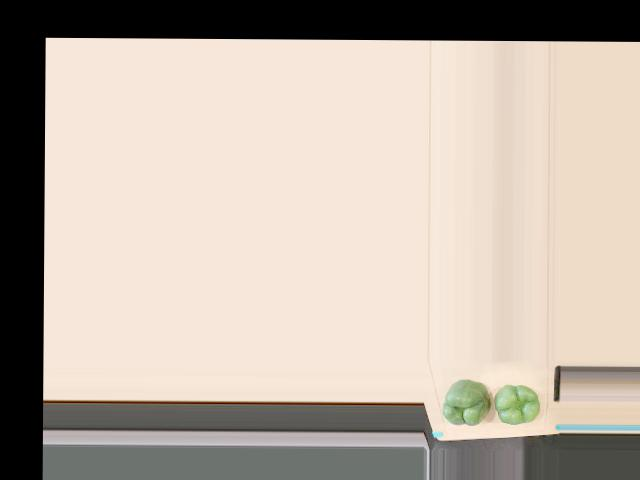bell_pepper: (492, 379, 539, 425)
